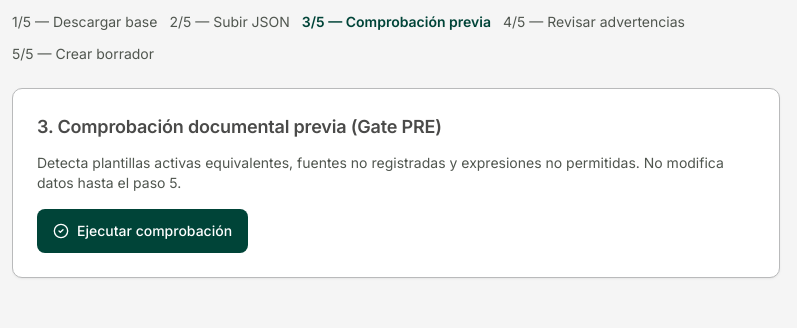
Test: TemplateImportWizard › abre el borrador exacto y conserva todo el contexto tras importar
Earlier steps of the test are not shown.
Later steps or results of the test are not shown.
Check: the heading "3. Comprobación documental previa (Gate PRE)" is shown, box [37,116,442,137]
Click the button "Ejecutar comprobación".
click(143, 231)  # box [37,209,248,253]
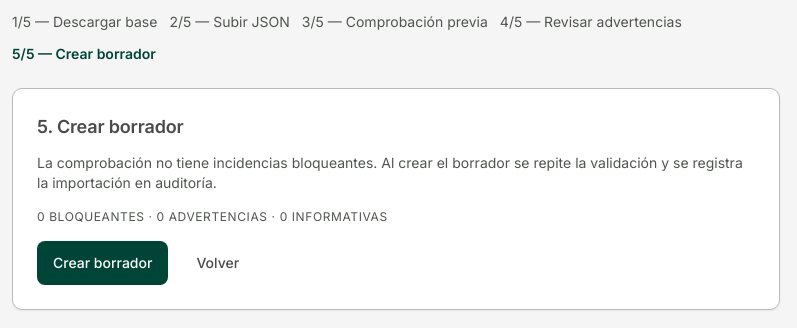
Check: the heading "5. Crear borrador" is shown, box [37,116,184,137]
